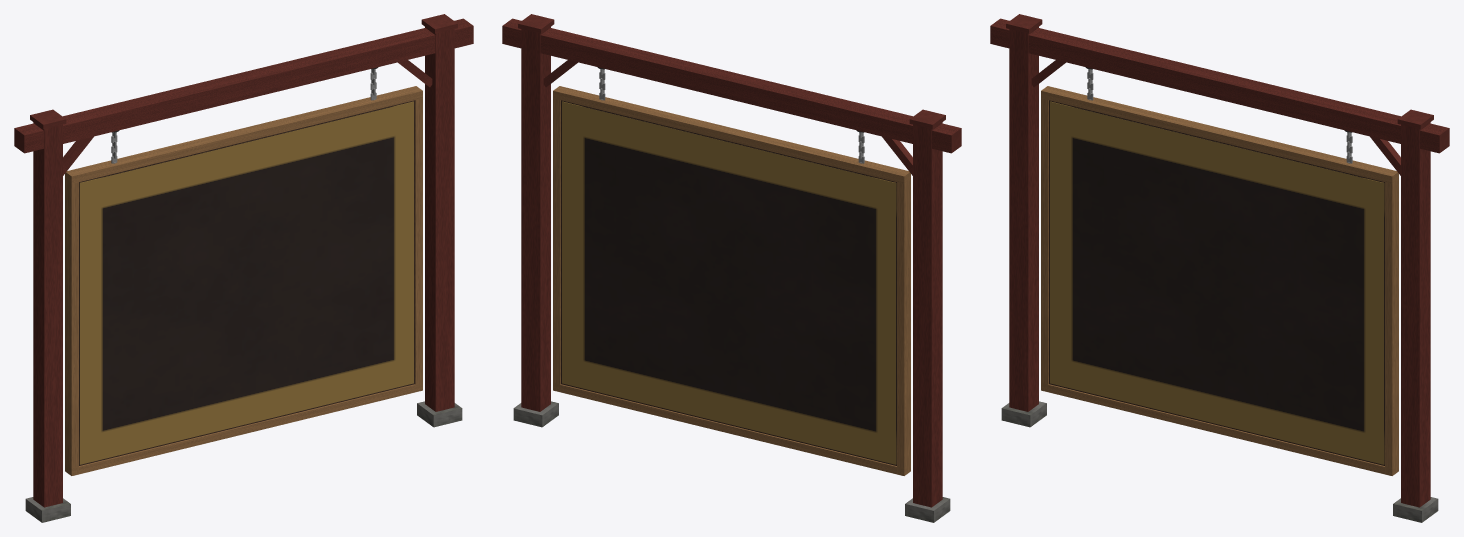
The model's file is DonationBoard.fbx.
3 views of the same model, side by side, from view 1: azimuth 30°, elevation 25°; view 2: azimuth 150°, elevation 25°; view 3: azimuth 330°, elevation 25° (orthographic).
Parts seen in each view (by area): view 1: DonationBoard_Face, DonationBoard, DonationBoard_Board; view 2: DonationBoard_Face, DonationBoard, DonationBoard_Board; view 3: DonationBoard_Face, DonationBoard, DonationBoard_Board.
Boxes of the visible parts, x1,y1,x2,y2 form: DonationBoard_Face: (79, 101, 413, 464); DonationBoard: (14, 14, 473, 522); DonationBoard_Board: (65, 69, 422, 475); DonationBoard_Face: (562, 101, 896, 464); DonationBoard: (502, 14, 961, 522); DonationBoard_Board: (553, 69, 910, 475); DonationBoard_Face: (1050, 101, 1384, 464); DonationBoard: (990, 14, 1449, 522); DonationBoard_Board: (1041, 69, 1398, 475).
Bounding box in the file's own units: 874 × 736 × 56.
1 material, 1 textured.
